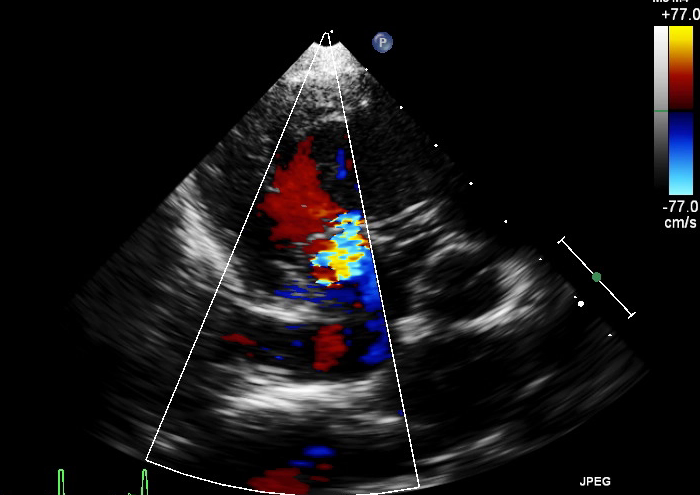TR: (309, 214, 370, 289)
